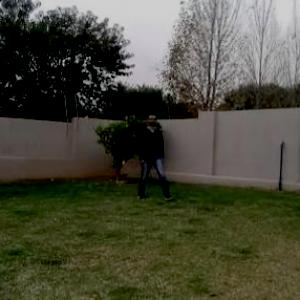follow: (138, 105, 163, 202)
